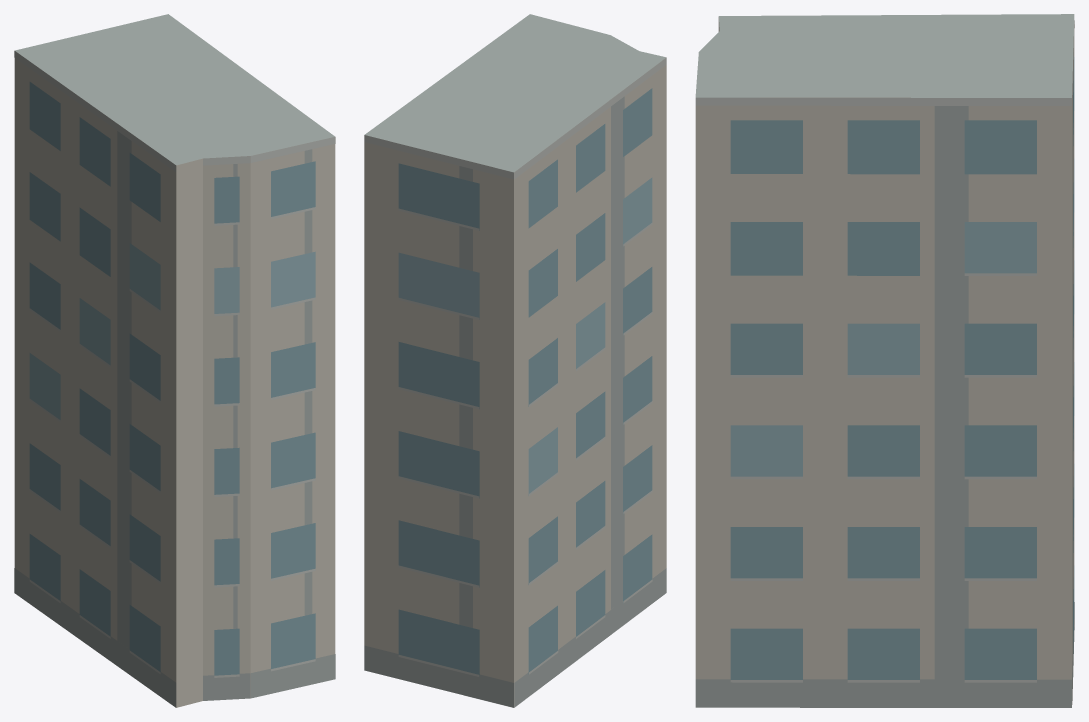
File: survey-upis-33030096.glb
3 views of the same model, side by side, from view 1: azimuth 30°, elevation 25°; view 2: azimuth 150°, elevation 25°; view 3: azimuth 270°, elevation 25° (orthographic). The views are drawn at different scales.
Parts seen in each view (by area): view 1: survey-upis-33030096.tmp; view 2: survey-upis-33030096.tmp; view 3: survey-upis-33030096.tmp.
Boxes of the visible parts, bbox=[...] form: survey-upis-33030096.tmp: bbox=[14, 14, 335, 707]; survey-upis-33030096.tmp: bbox=[364, 14, 666, 707]; survey-upis-33030096.tmp: bbox=[695, 14, 1074, 707].
Size of the model in its own units: 5.44 by 18.4 by 10.37.
